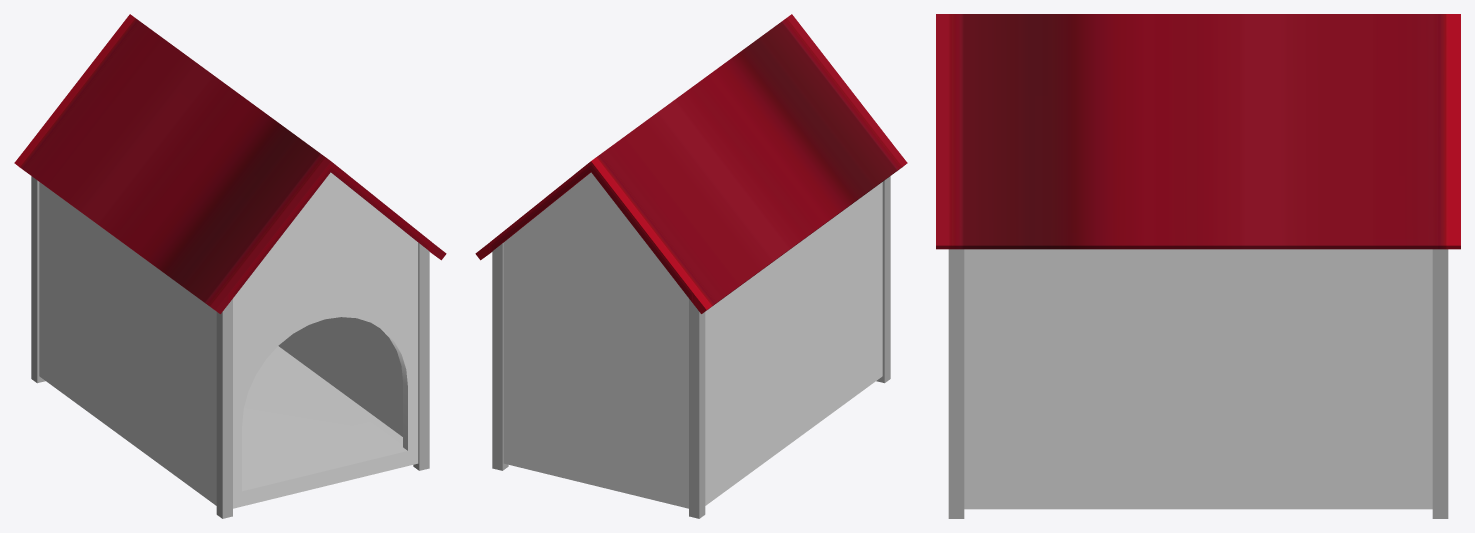
The model's file is doghouse.obj.
The picture shows the model from 3 angles, left to right: view 1: azimuth 30°, elevation 25°; view 2: azimuth 150°, elevation 25°; view 3: azimuth 270°, elevation 25°; orthographic projection. The views are drawn at different scales.
Visible parts, largest first — view 1: Cube; view 2: Cube; view 3: Cube.
Part boxes in pixels (x1,y1,x2,y2): Cube: (14,14,446,518); Cube: (475,14,907,518); Cube: (936,14,1460,518).
Size of the model in its own units: 1.12 by 1.55 by 1.68.
